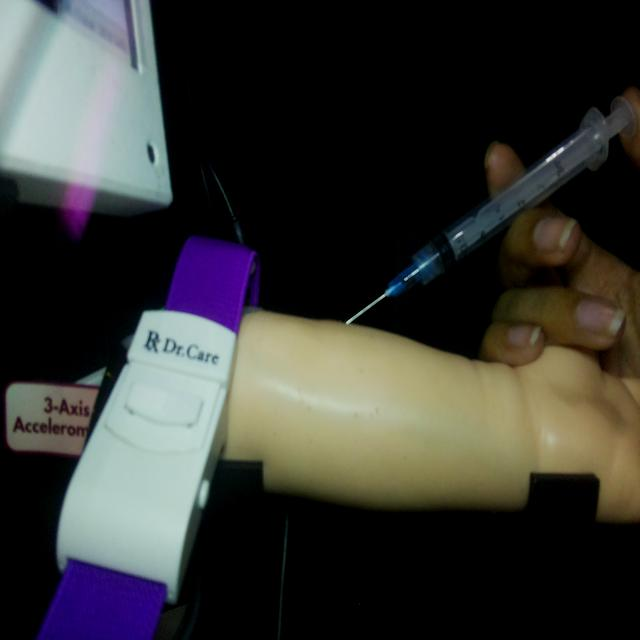29 degrees: (343, 87, 636, 327)
